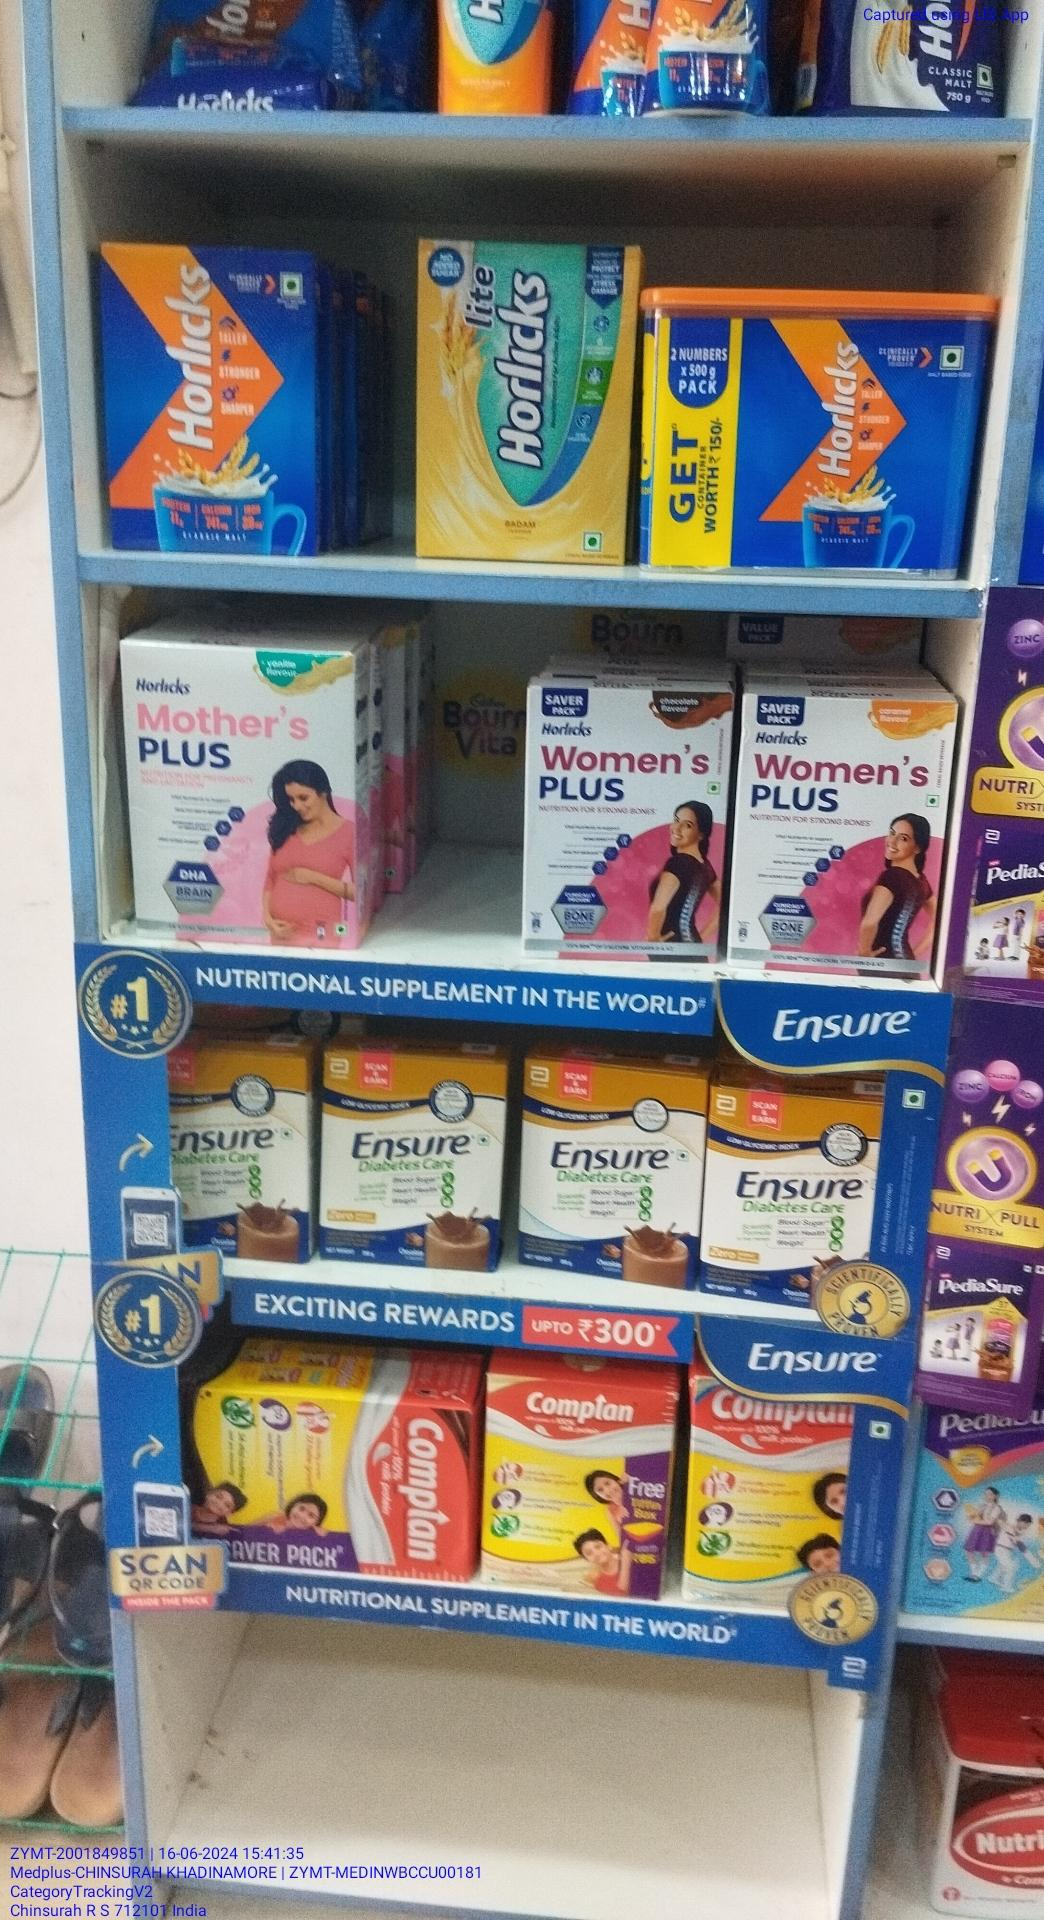COMPLAN_CREAMY_CLASSIC_500_G_PACK: (685, 1385, 792, 1601)
HORLICK_CLASSIC_MALT_500_G_PACK: (103, 239, 323, 553)
HORLICK_MALT_1_KG_CONTAINER: (635, 294, 968, 574)
